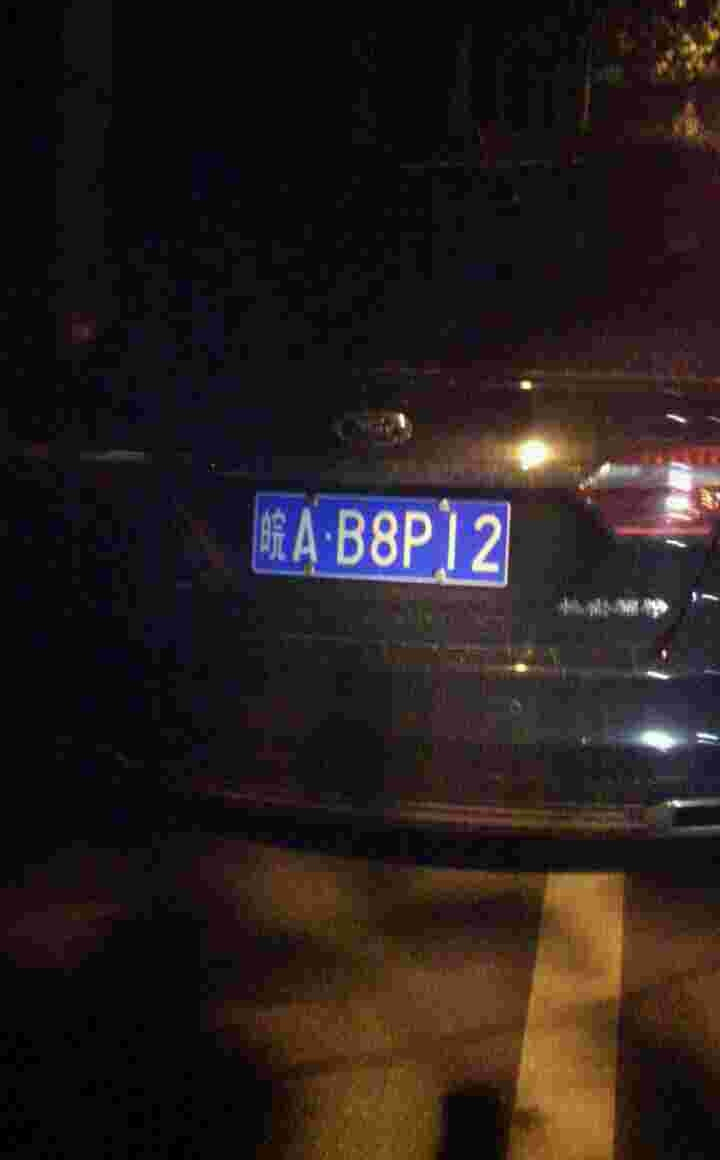license_plate: (251, 490, 509, 589)
